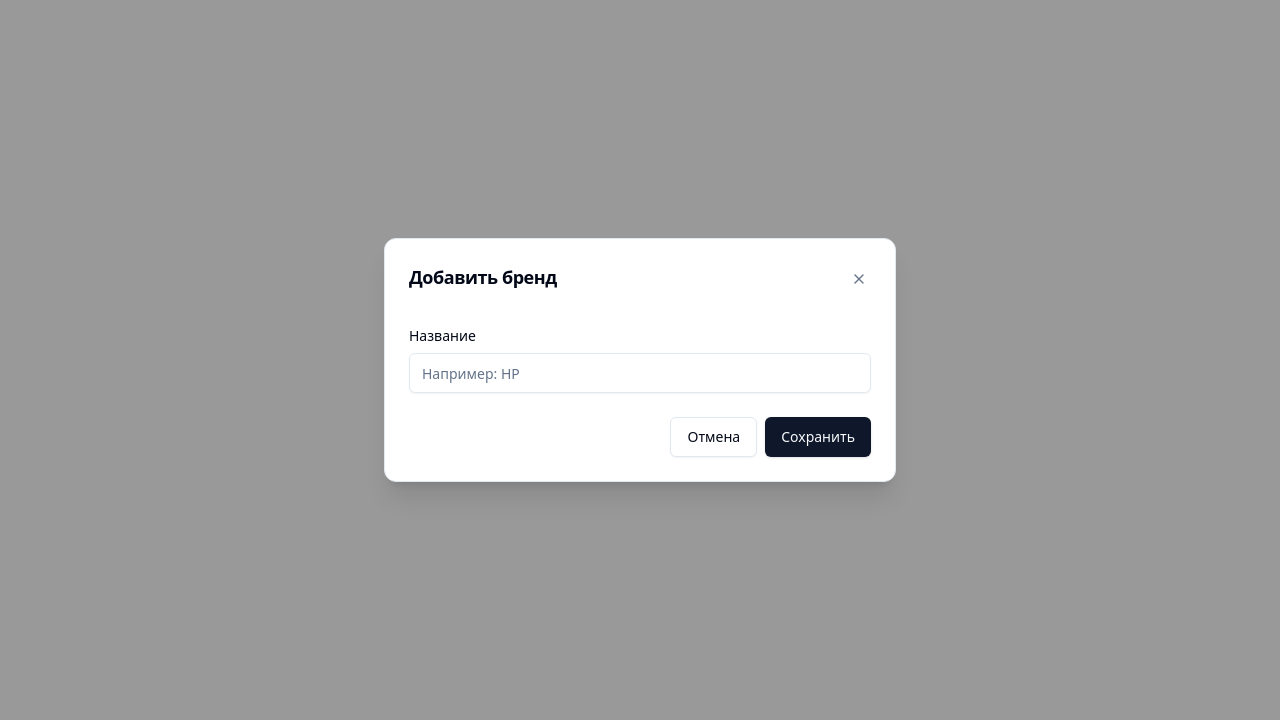
Test: BrandFormDialog › blocks submit when name is empty
The image size is (1280, 720).
Click the button "Сохранить".
click(818, 437)  # box top-left (765, 417), bottom-right (871, 457)
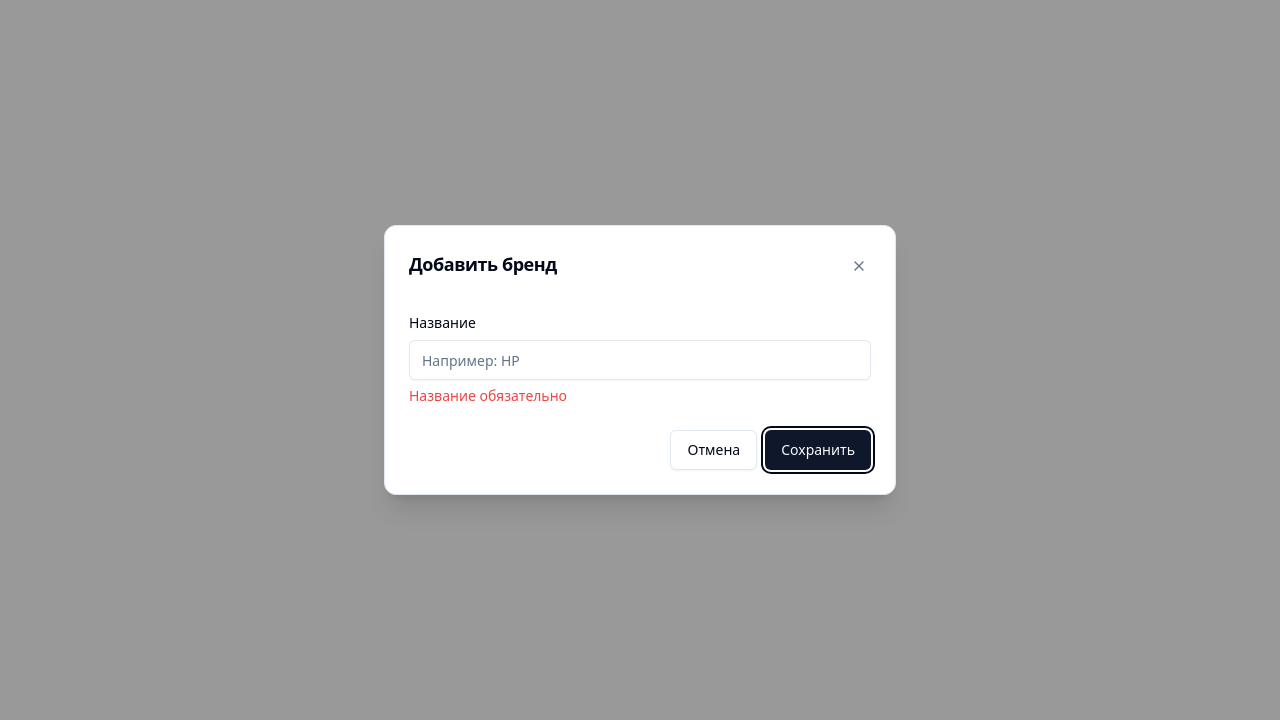
Expected: the message "Название обязательно" is shown, top-left (409, 386), bottom-right (567, 405)
